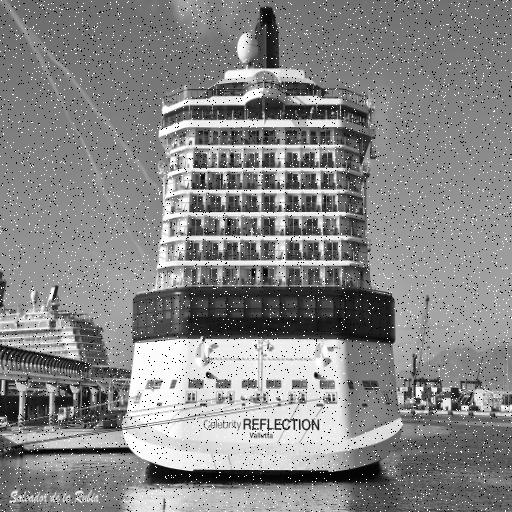cruises: (125, 5, 410, 482)
